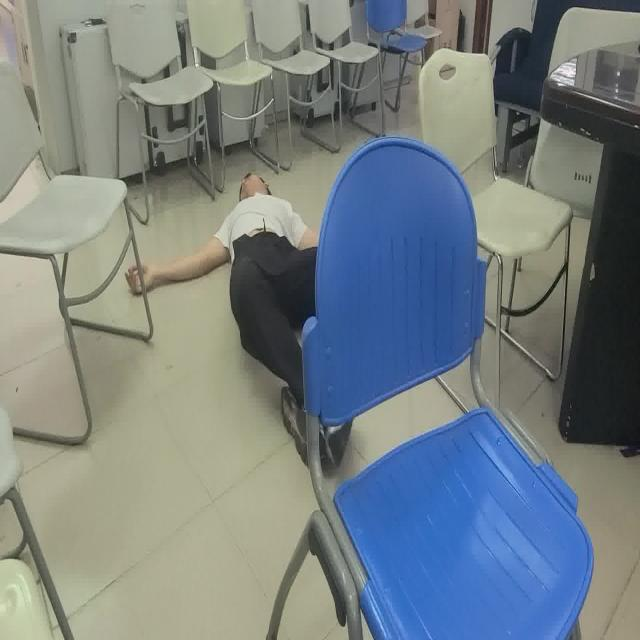fall: (124, 167, 356, 475)
